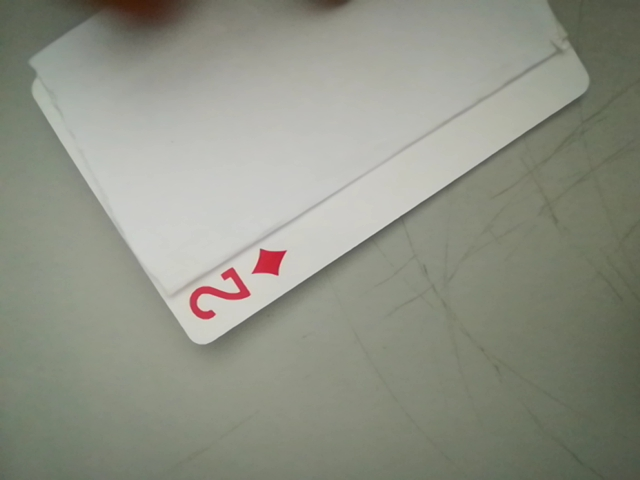fk 2: (178, 244, 297, 336)
